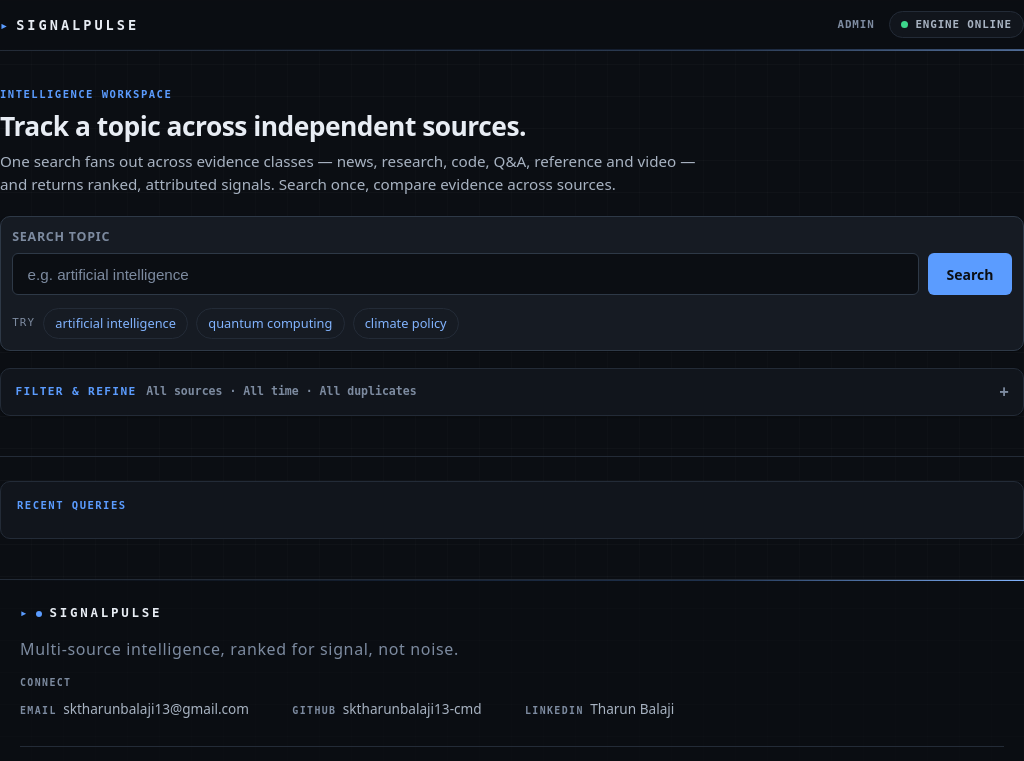
App › shows skeleton placeholders while results are loading
Type "ai" into the field labelled "Search topic". click: (465, 274)
box: [12, 253, 918, 295]
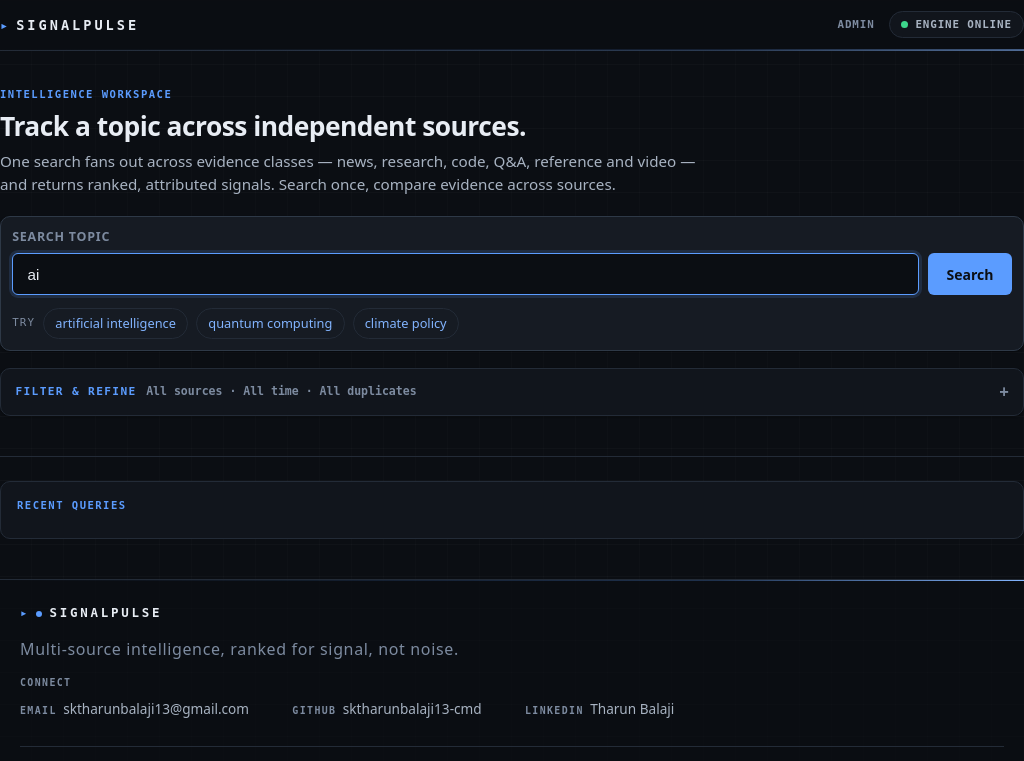
Click the button "Search". click: (970, 274)
box: [928, 253, 1012, 295]
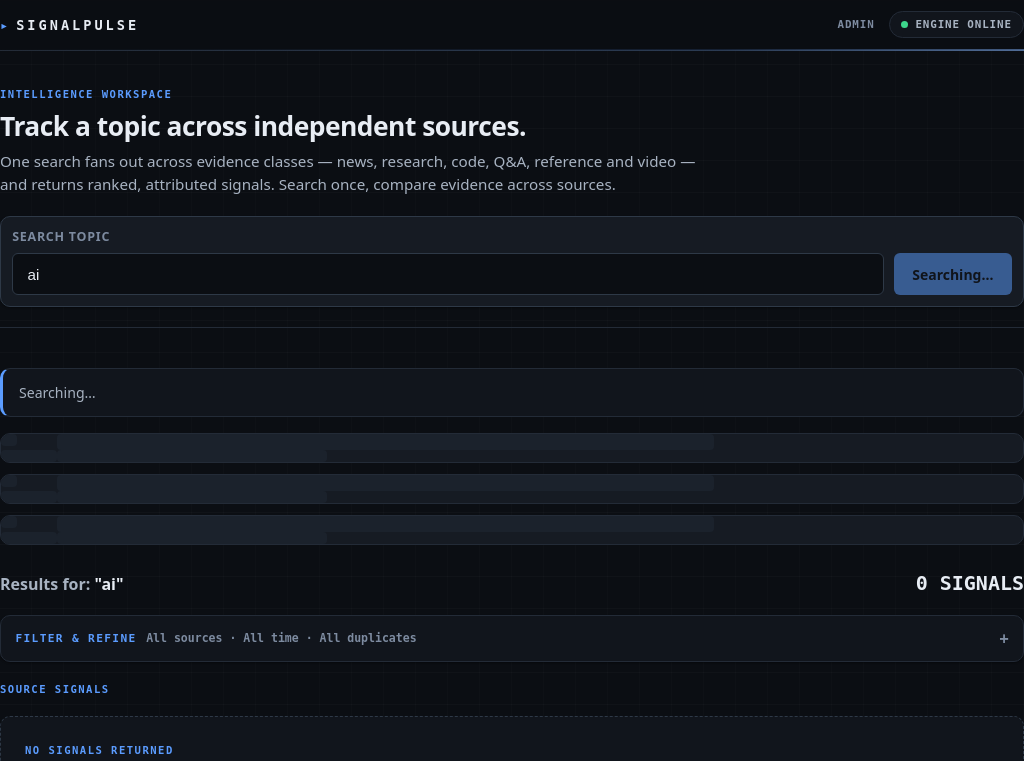
Expected: the number of elements with test id "result-skeleton" is 3, [0, 433, 1023, 463]; [0, 474, 1023, 504]; [0, 515, 1023, 545]
